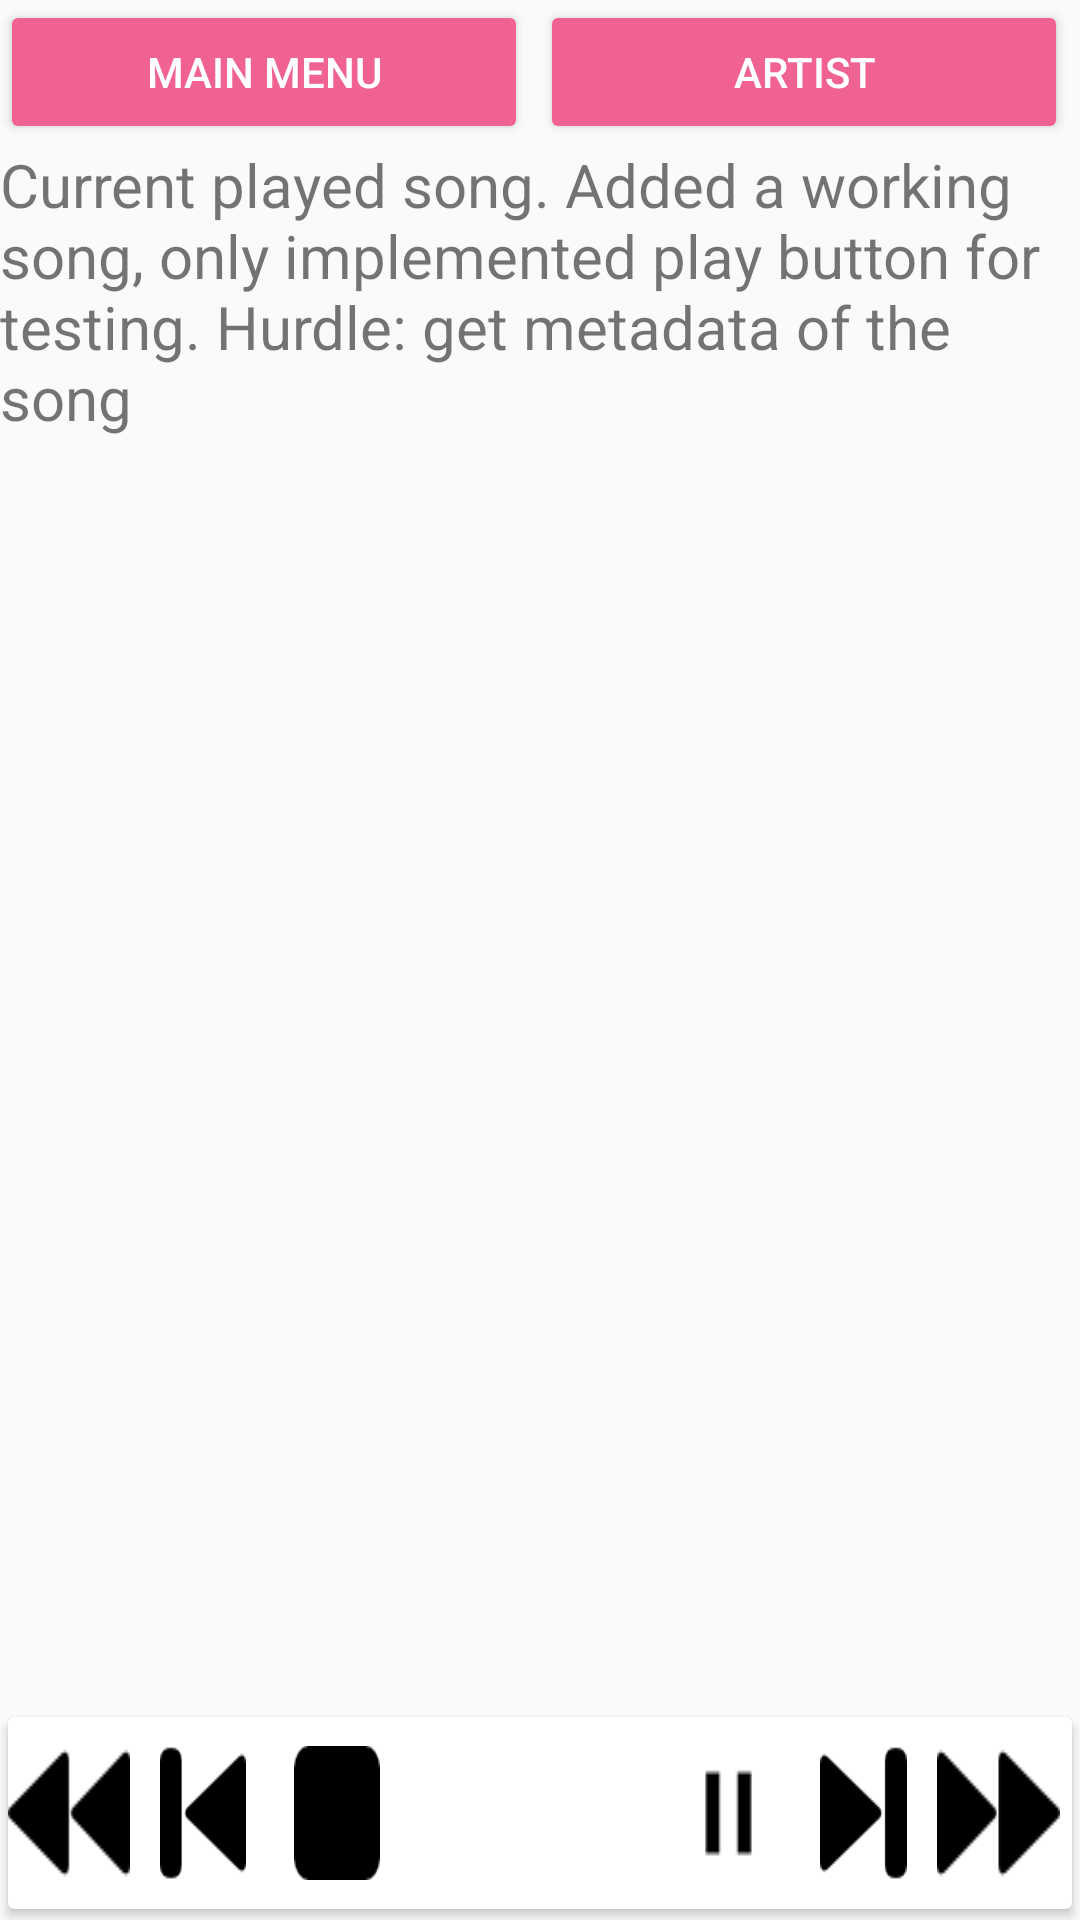

Where to tap for icons on this 1080 × 1920 app screen, as (x,y):
forward: (998,1813)
pause: (728,1813)
rewind: (69,1829)
